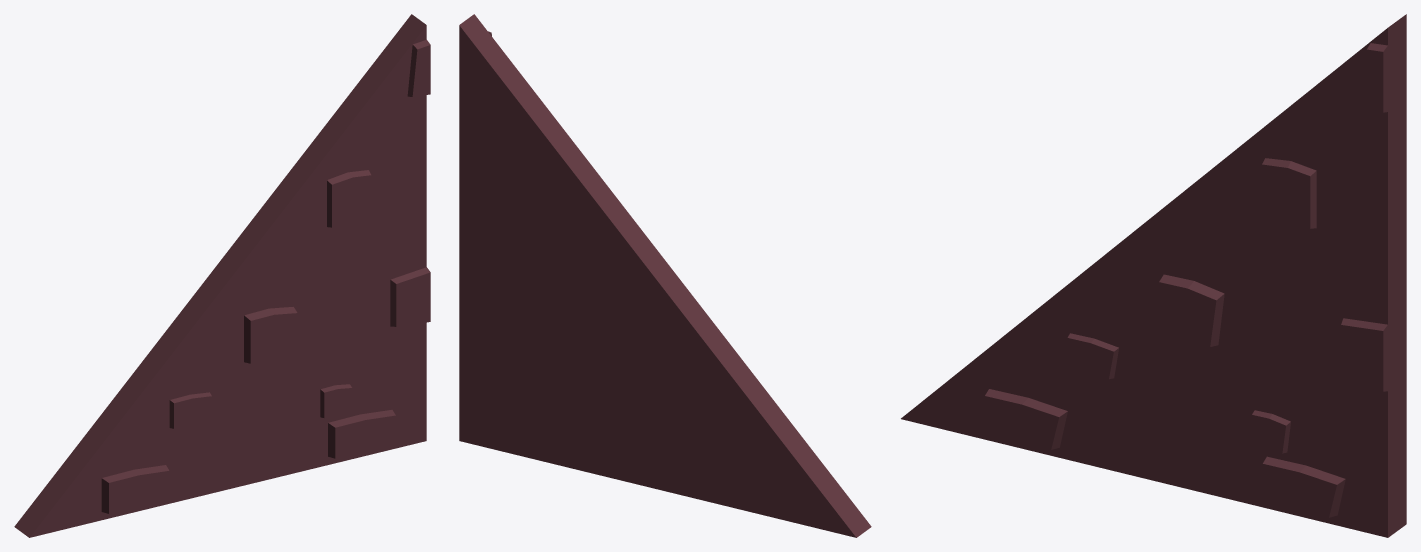
Rendered from empire-stone-wall-verical-l-3x3-moss-rim-empire.glb.
3 renders of one model, left to right at view 1: azimuth 30°, elevation 25°; view 2: azimuth 150°, elevation 25°; view 3: azimuth 330°, elevation 25°, orthographic. The views are drawn at different scales.
Visible parts, largest first — view 1: SM_Stone_Wall_Verical_L_3x3_Moss_Rim_Empire; view 2: SM_Stone_Wall_Verical_L_3x3_Moss_Rim_Empire; view 3: SM_Stone_Wall_Verical_L_3x3_Moss_Rim_Empire.
Part boxes in pixels (x1,y1,x2,y2): SM_Stone_Wall_Verical_L_3x3_Moss_Rim_Empire: (14, 14, 430, 537); SM_Stone_Wall_Verical_L_3x3_Moss_Rim_Empire: (459, 14, 871, 537); SM_Stone_Wall_Verical_L_3x3_Moss_Rim_Empire: (901, 14, 1406, 537).
Size of the model in its own units: 3 by 3 by 0.2676.
